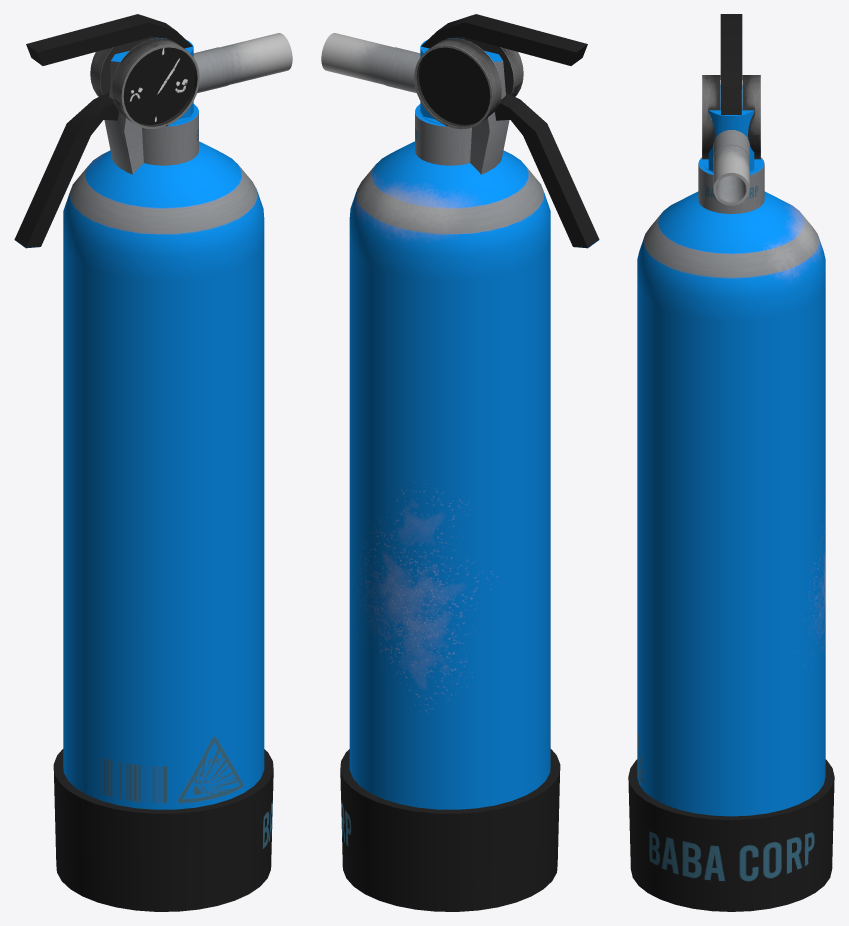
Rendered from waterExtinguisher.glb.
3 views of the same model, side by side, from view 1: azimuth 30°, elevation 25°; view 2: azimuth 150°, elevation 25°; view 3: azimuth 270°, elevation 25° (orthographic). The views are drawn at different scales.
Visible parts, largest first — view 1: Cylinder, Cylinder.001; view 2: Cylinder, Cylinder.001; view 3: Cylinder, Cylinder.001.
Part boxes in pixels (left/top/right/bottom): Cylinder: left=14, top=14, right=292, bottom=911; Cylinder.001: left=90, top=37, right=199, bottom=129; Cylinder: left=321, top=14, right=599, bottom=911; Cylinder.001: left=414, top=37, right=523, bottom=129; Cylinder: left=628, top=14, right=834, bottom=911; Cylinder.001: left=702, top=75, right=760, bottom=159.
Bounding box in the file's own units: 0.5632 × 1.75 × 0.4092.
2 materials, 2 textured.
